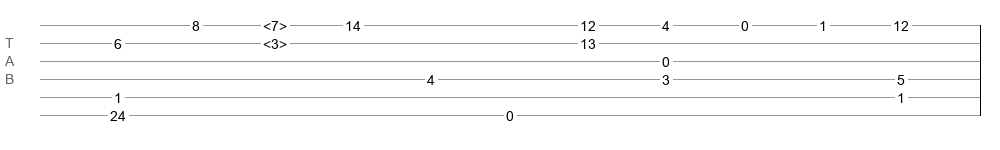0: (506, 108, 514, 118), (662, 54, 670, 64), (741, 18, 749, 28)
1: (114, 90, 122, 100), (819, 18, 827, 28), (897, 90, 905, 100)
12: (580, 18, 596, 28), (893, 18, 909, 28)
13: (580, 36, 596, 46)
14: (345, 18, 361, 28)
24: (110, 108, 126, 118)
3: (662, 72, 670, 82)
4: (427, 72, 435, 82), (662, 18, 670, 28)
5: (897, 72, 905, 82)
6: (114, 36, 122, 46)
8: (192, 18, 200, 28)
harmonic: (263, 18, 287, 28), (263, 36, 287, 46)
